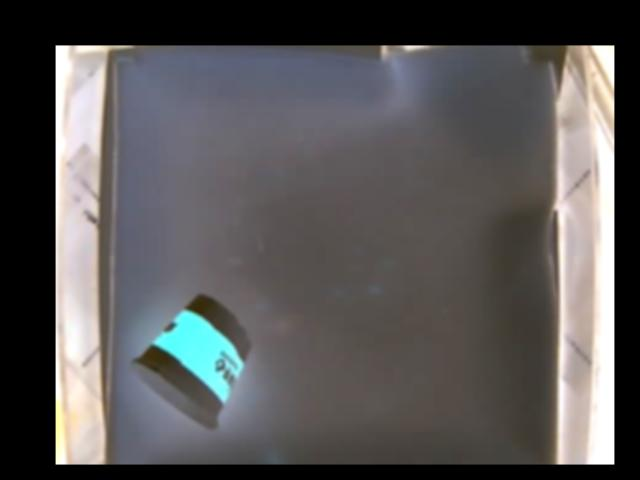Cup: (129, 292, 252, 428)
